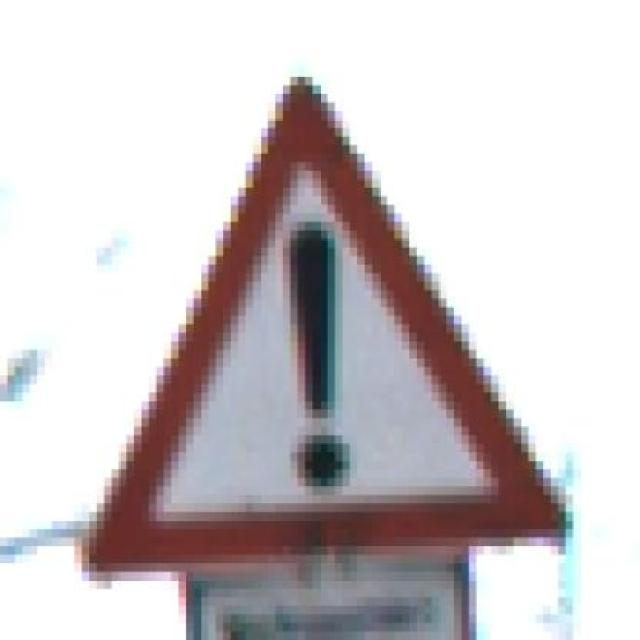Attention Please-: (59, 60, 588, 589)
